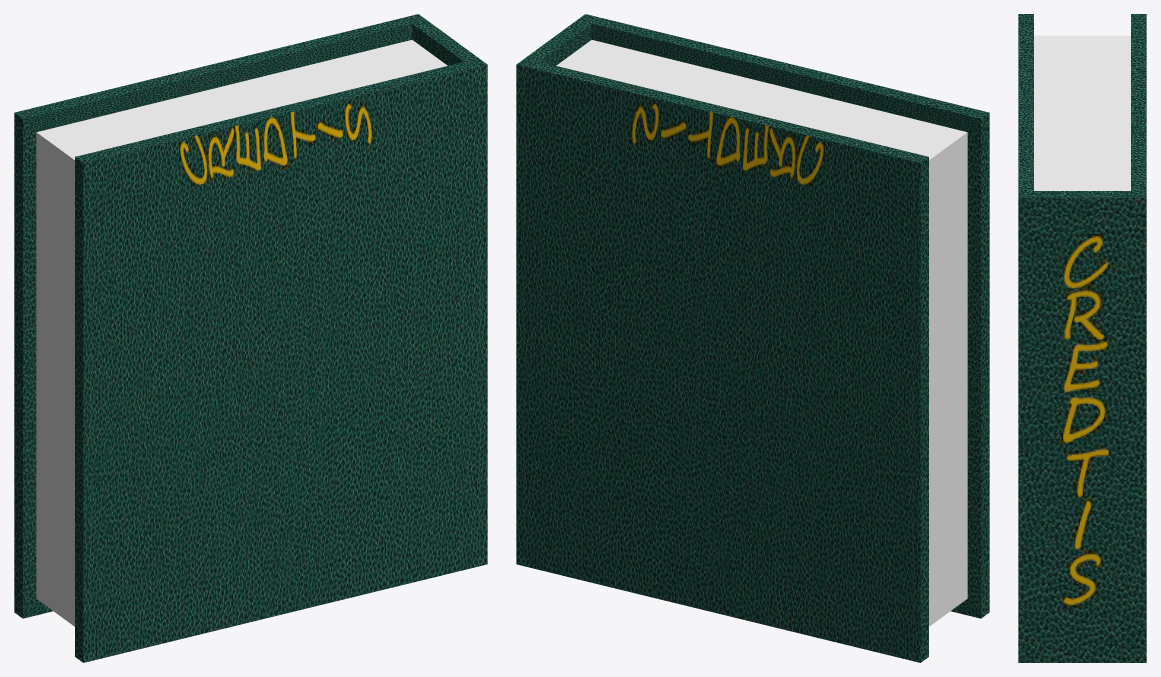
The model's file is BookCredits.obj.
3 views of the same model, side by side, from view 1: azimuth 30°, elevation 25°; view 2: azimuth 150°, elevation 25°; view 3: azimuth 270°, elevation 25° (orthographic). The views are drawn at different scales.
Parts seen in each view (by area): view 1: book.051; view 2: book.051; view 3: book.051.
Part boxes in pixels (x1,y1,x2,y2): book.051: [14, 14, 487, 662]; book.051: [516, 14, 989, 662]; book.051: [1018, 14, 1146, 662].
Bounding box in the file's own units: 0.2094 × 0.2476 × 0.0619.
